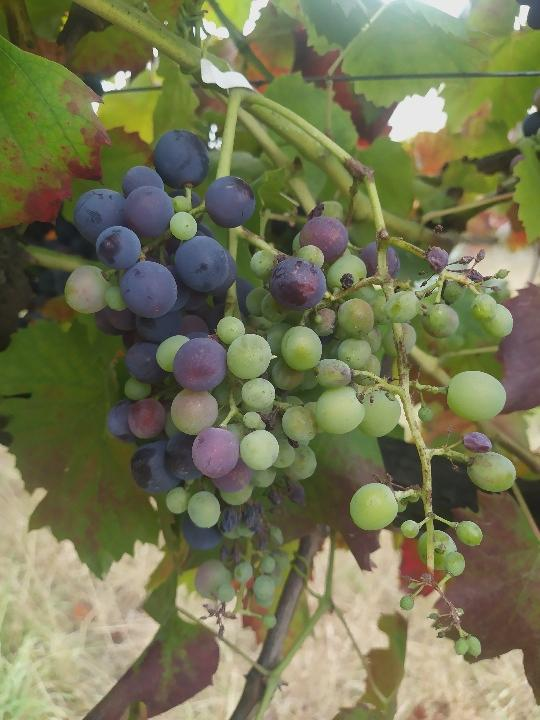grape: (64, 130, 321, 632), (295, 198, 518, 662)
